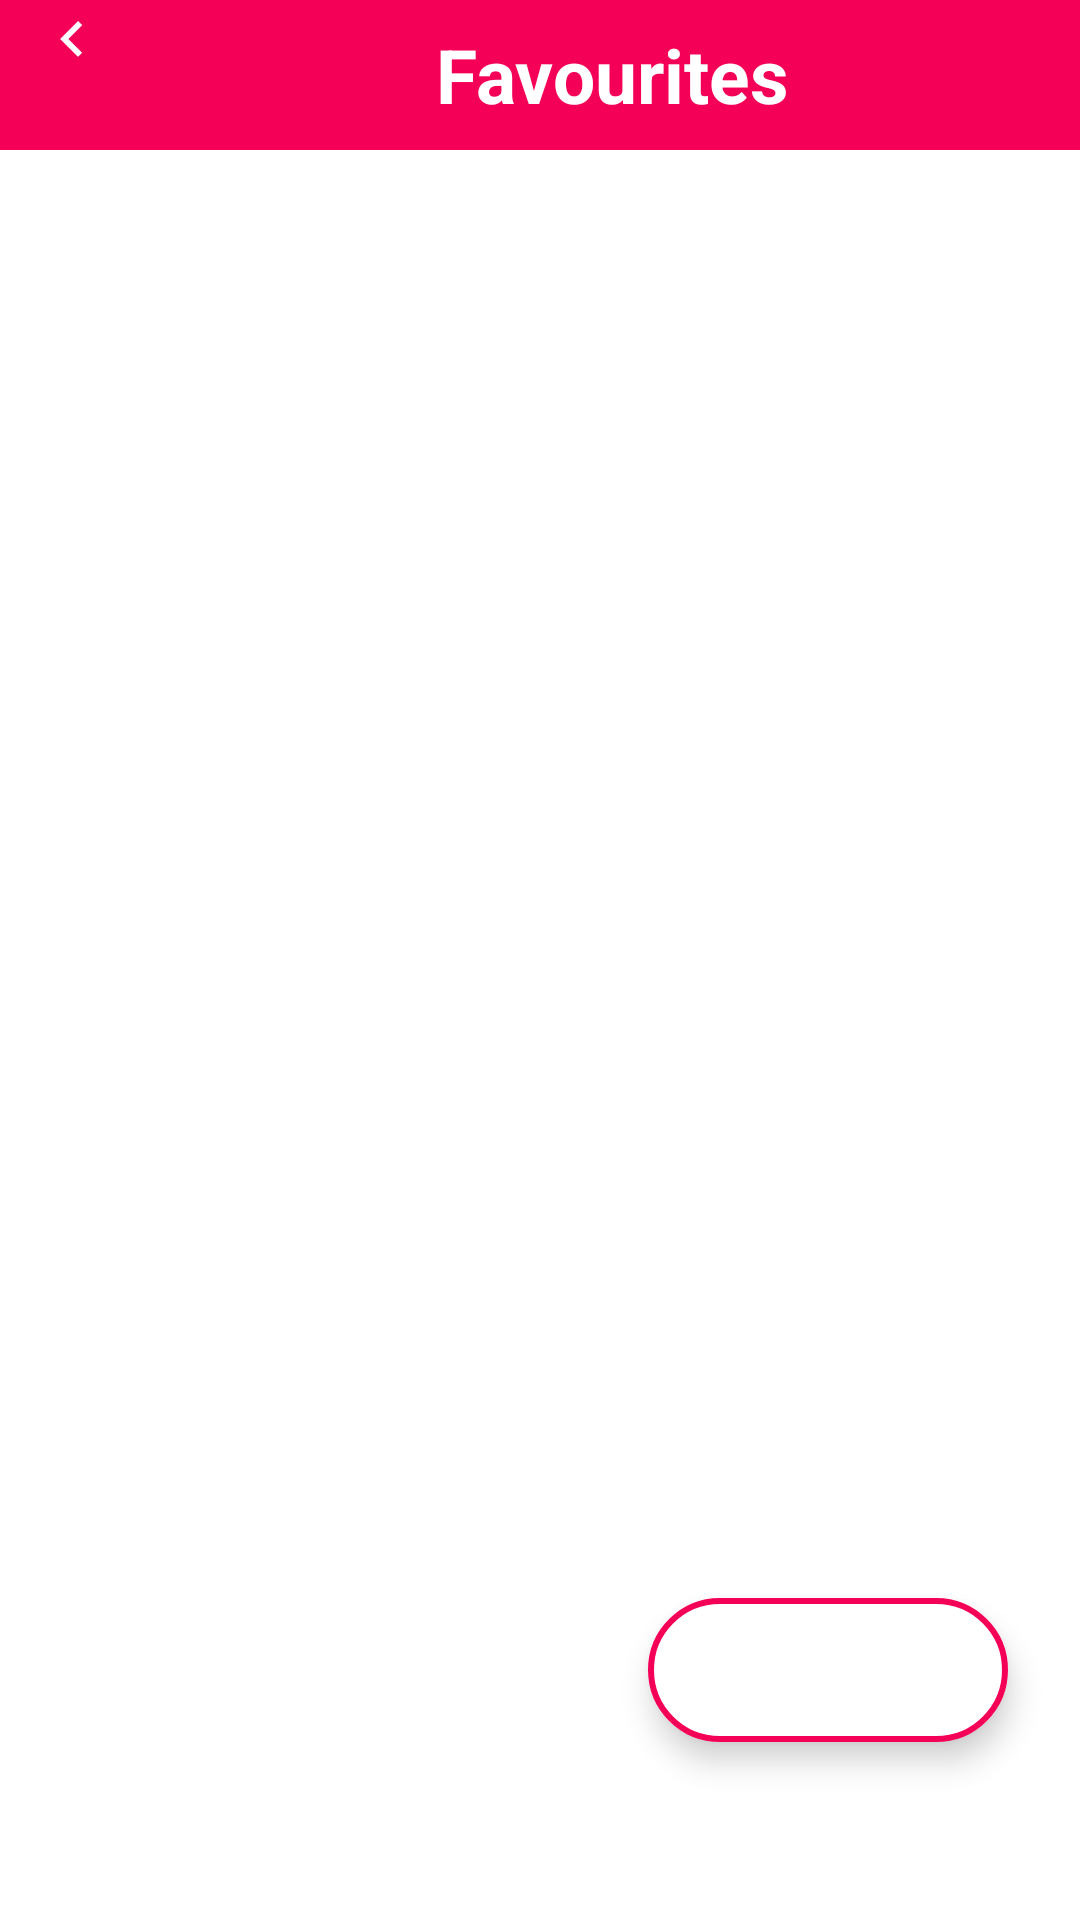

Where icons sit on this 1080px x 1920px app screen, as (x1, y1, x2, y2):
Back: (60, 21, 82, 57)
